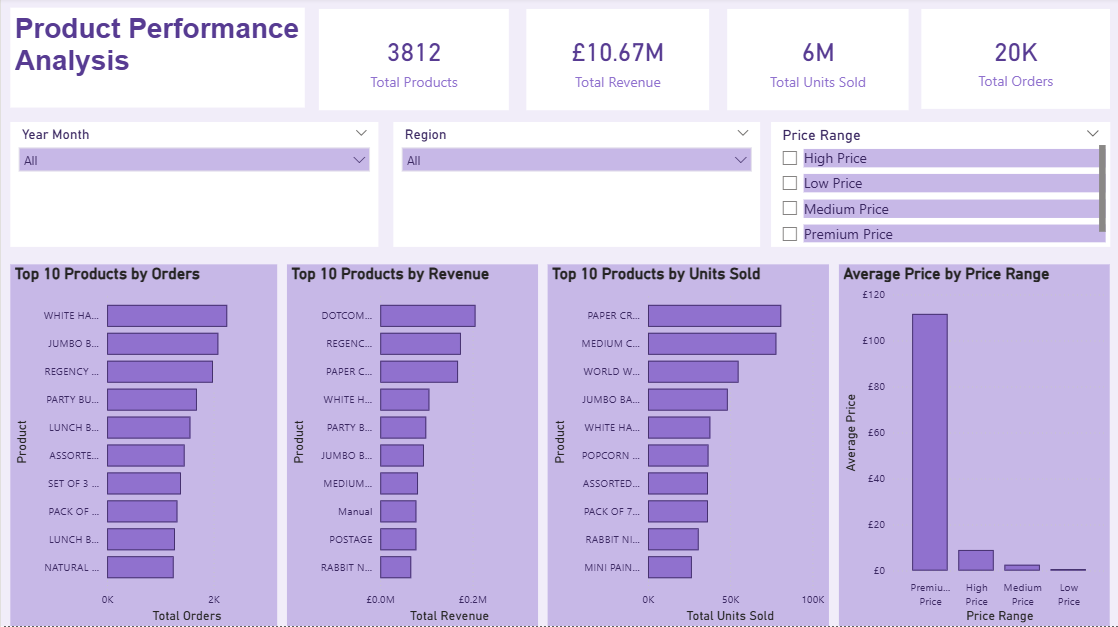

The page's visual inventory and layout, read from the dashboard file:
{"tool":"powerbi","page":{"name":"Product Performance Analysis","canvas":[1280,720],"ordinal":2},"visuals":[{"type":"clusteredBarChart","title":"Top 10 Products by Orders","fields":{"Category":["Online Retail.Product"],"Y":["Online Retail.Total Orders"]},"box":[9.9,305.1,305.1,414.6],"z":0},{"type":"card","fields":{"Values":["Online Retail.Total Orders"]},"box":[1053,13.3,215.6,114.4],"z":1000},{"type":"card","fields":{"Values":["Online Retail.Total Units Sold"]},"box":[830.8,13.3,207.3,116.1],"z":2000},{"type":"card","fields":{"Values":["Online Retail.Total Revenue"]},"box":[600.3,13.3,208.9,116.1],"z":3000},{"type":"card","fields":{"Values":["Online Retail.Total Products"]},"box":[363.2,13.3,217.2,116.1],"z":4000},{"type":"clusteredBarChart","title":"Top 10 Products by Revenue","fields":{"Category":["Online Retail.Product"],"Y":["Online Retail.Total Revenue"]},"box":[326.7,305.1,286.9,414.6],"z":5000},{"type":"clusteredBarChart","title":"Top 10 Products by Units Sold","fields":{"Category":["Online Retail.Product"],"Y":["Online Retail.Total Units Sold"]},"box":[625.2,305.1,321.7,414.6],"z":6000},{"type":"slicer","fields":{"Values":["Online Retail.Year Month"]},"box":[9.9,142.6,421.2,142.6],"z":7000},{"type":"slicer","fields":{"Values":["Online Retail.Region"]},"box":[449.4,142.6,419.5,142.6],"z":8000},{"type":"slicer","fields":{"Values":["Online Retail.Price Range"]},"box":[880.6,142.6,388,142.6],"z":9000},{"type":"clusteredColumnChart","title":"Average Price by Price Range","fields":{"Category":["Online Retail.Price Range"],"Y":["Online Retail.Average Price"]},"box":[958.5,305.1,310.1,414.6],"z":10000},{"type":"textbox","box":[9.9,11.6,336.6,114.4],"z":11000}]}

Visuals, with their boxes in screenshot pixels (x1, y1, x2, y2), scaled from the page's 1280x720 canvas onto the 1118x627 screenshot:
"Top 10 Products by Orders" clusteredBarChart: select_region(9, 266, 275, 626)
card - Online Retail.Total Orders: select_region(920, 12, 1108, 111)
card - Online Retail.Total Units Sold: select_region(726, 12, 907, 113)
card - Online Retail.Total Revenue: select_region(524, 12, 707, 113)
card - Online Retail.Total Products: select_region(317, 12, 507, 113)
"Top 10 Products by Revenue" clusteredBarChart: select_region(285, 266, 536, 626)
"Top 10 Products by Units Sold" clusteredBarChart: select_region(546, 266, 827, 626)
slicer - Online Retail.Year Month: select_region(9, 124, 377, 248)
slicer - Online Retail.Region: select_region(393, 124, 759, 248)
slicer - Online Retail.Price Range: select_region(769, 124, 1108, 248)
"Average Price by Price Range" clusteredColumnChart: select_region(837, 266, 1108, 626)
textbox: select_region(9, 10, 303, 110)
